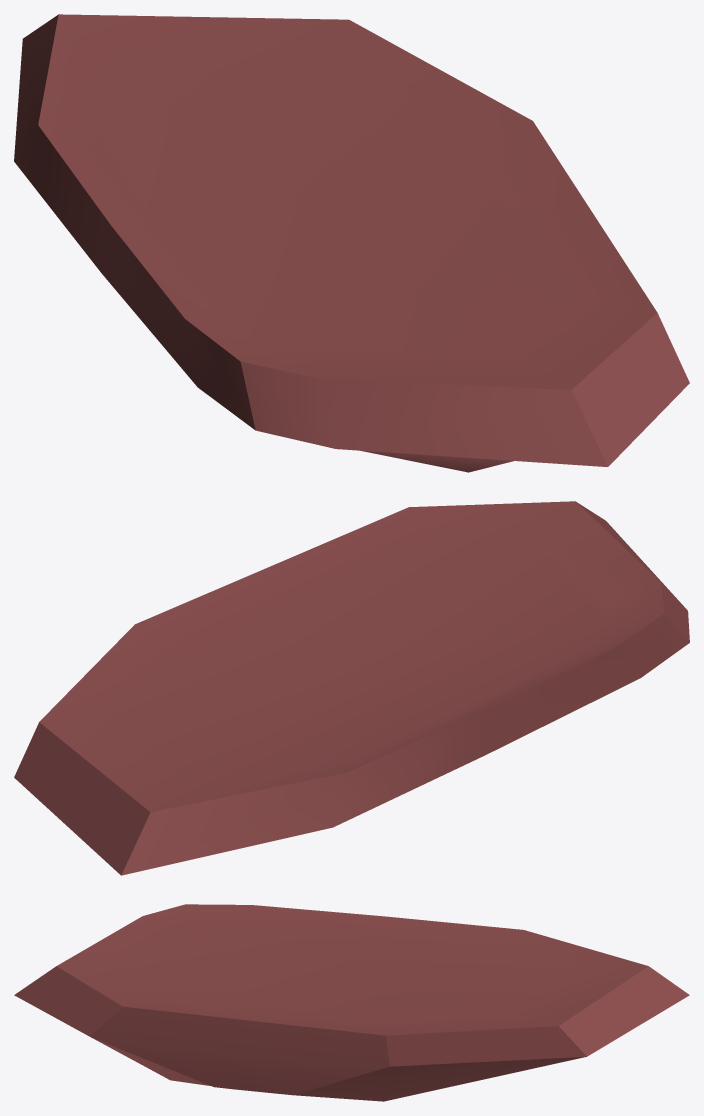
Rendered from FloorEarth3.fbx.
3 views of the same model, one above another, from view 1: azimuth 30°, elevation 25°; view 2: azimuth 150°, elevation 25°; view 3: azimuth 270°, elevation 25° (orthographic). The views are drawn at different scales.
Parts seen in each view (by area): view 1: FloorEarth3; view 2: FloorEarth3; view 3: FloorEarth3.
Part boxes in pixels (box(x1,y1,x2,y2)): FloorEarth3: box(14, 14, 689, 472); FloorEarth3: box(14, 501, 689, 875); FloorEarth3: box(14, 904, 689, 1101).
Size of the model in its own units: 742 by 260 by 1565.
